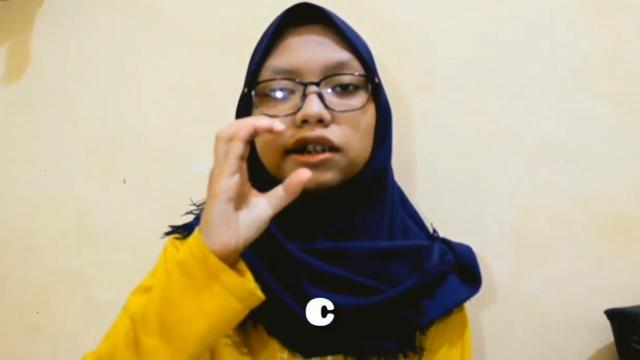C: (200, 114, 314, 250)
